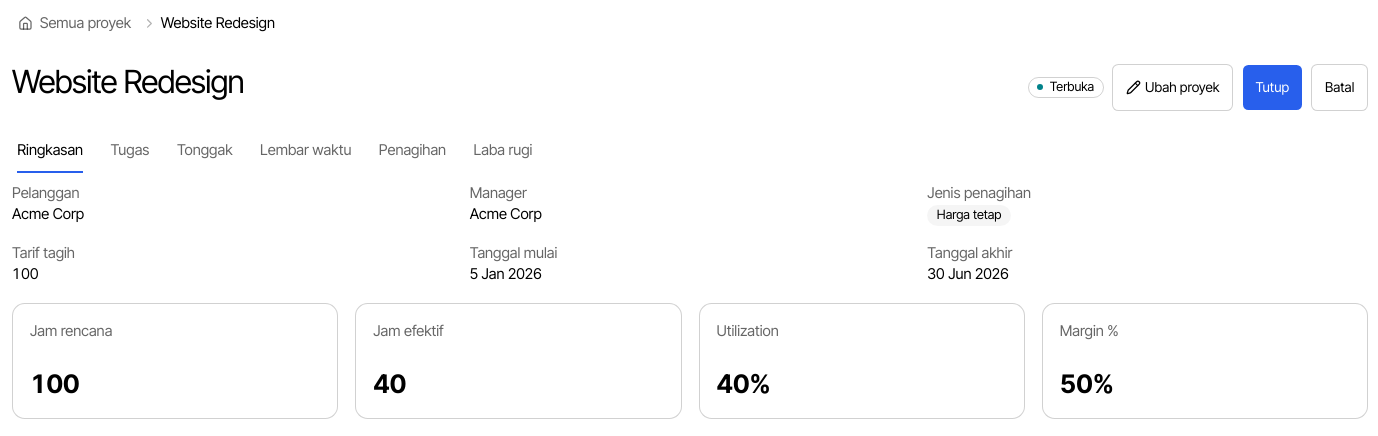
Test: ProjectDetail remainder › shows timesheets on the timesheets tab
This screenshot has width=1378, height=436.
Check: the heading "Website Redesign" is shown, box [12,64,244,100]
Click the tab "Lembar waktu" at {"x": 306, "y": 151}, box [259,128,352,174]
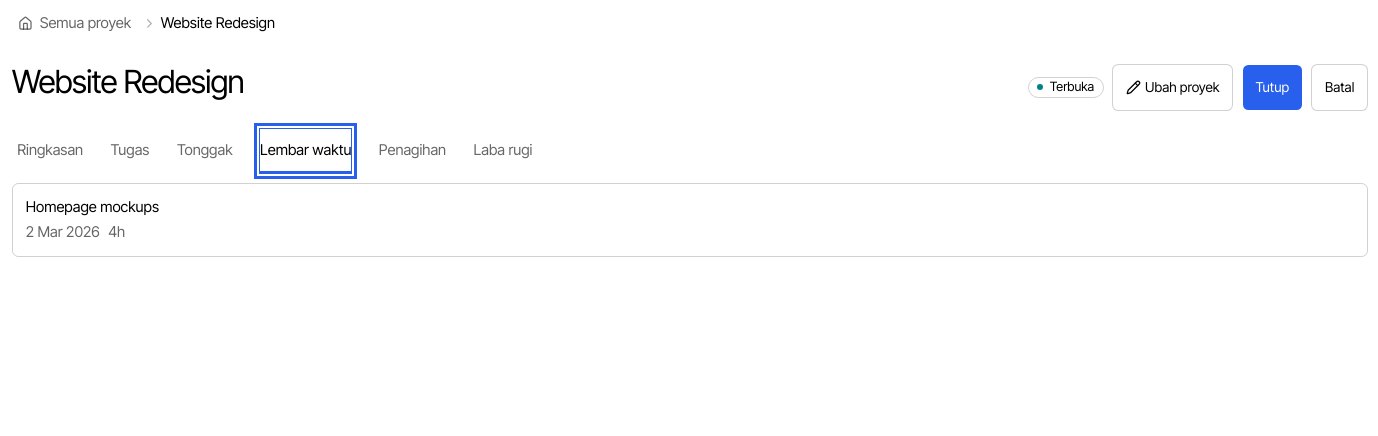
Check: the text "Homepage mockups" is shown, box [26,196,159,218]
